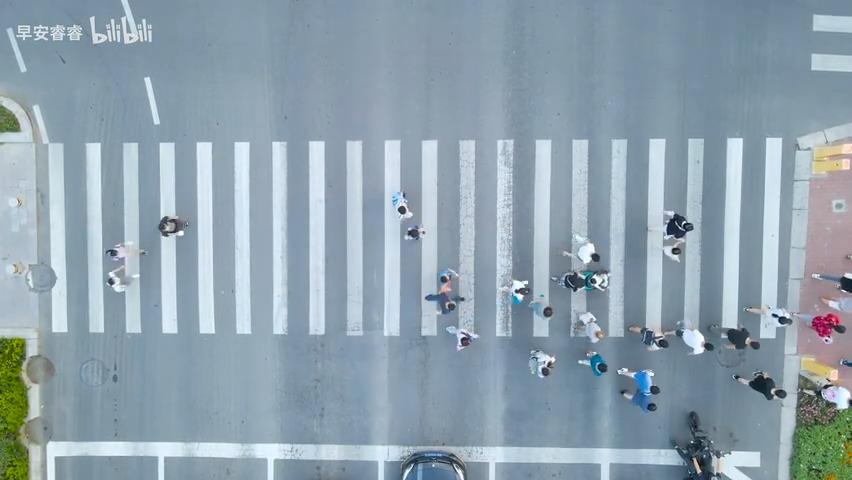Civilian: (661, 318, 713, 355), (791, 311, 846, 344), (424, 268, 461, 315), (731, 369, 787, 400), (708, 322, 760, 350), (550, 268, 610, 292), (562, 234, 600, 271), (616, 367, 658, 396), (743, 304, 793, 327), (627, 324, 668, 351), (573, 310, 604, 343), (105, 264, 140, 293), (619, 388, 657, 413), (663, 210, 694, 239), (445, 325, 479, 351), (811, 271, 851, 293), (819, 383, 851, 410), (528, 348, 556, 378), (499, 277, 530, 304), (577, 350, 607, 376), (105, 241, 147, 259), (158, 215, 189, 237), (391, 190, 413, 220), (528, 294, 553, 319), (820, 293, 851, 312), (662, 237, 684, 262), (404, 224, 425, 240)
